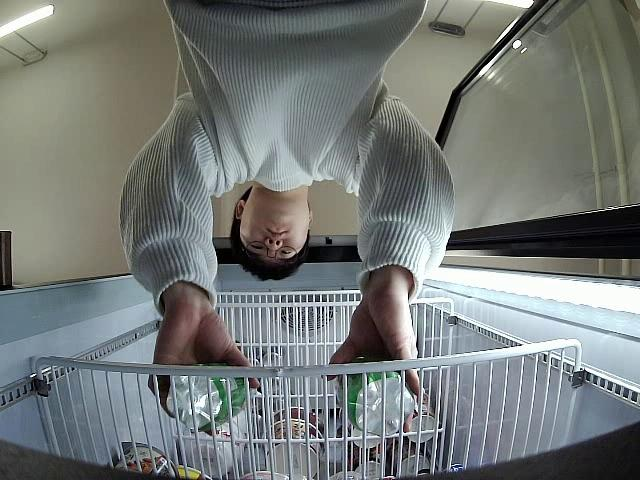00_hand: (149, 305, 263, 417), (324, 303, 421, 397)
19_17cha: (336, 354, 414, 436), (165, 361, 247, 427)
